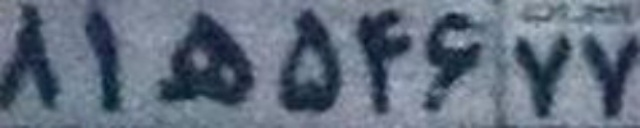1: (77, 8, 128, 113)
4: (350, 8, 408, 115)
5: (275, 8, 339, 113)
6: (422, 13, 483, 114)
7: (507, 29, 574, 116), (574, 31, 636, 118)
8: (0, 3, 70, 111)
he: (153, 10, 251, 107)
